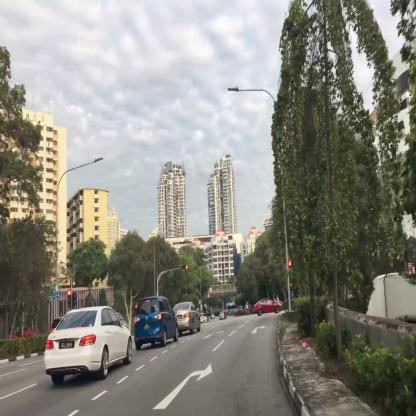red_traffic_light: (68, 290, 70, 307), (182, 265, 187, 269)
